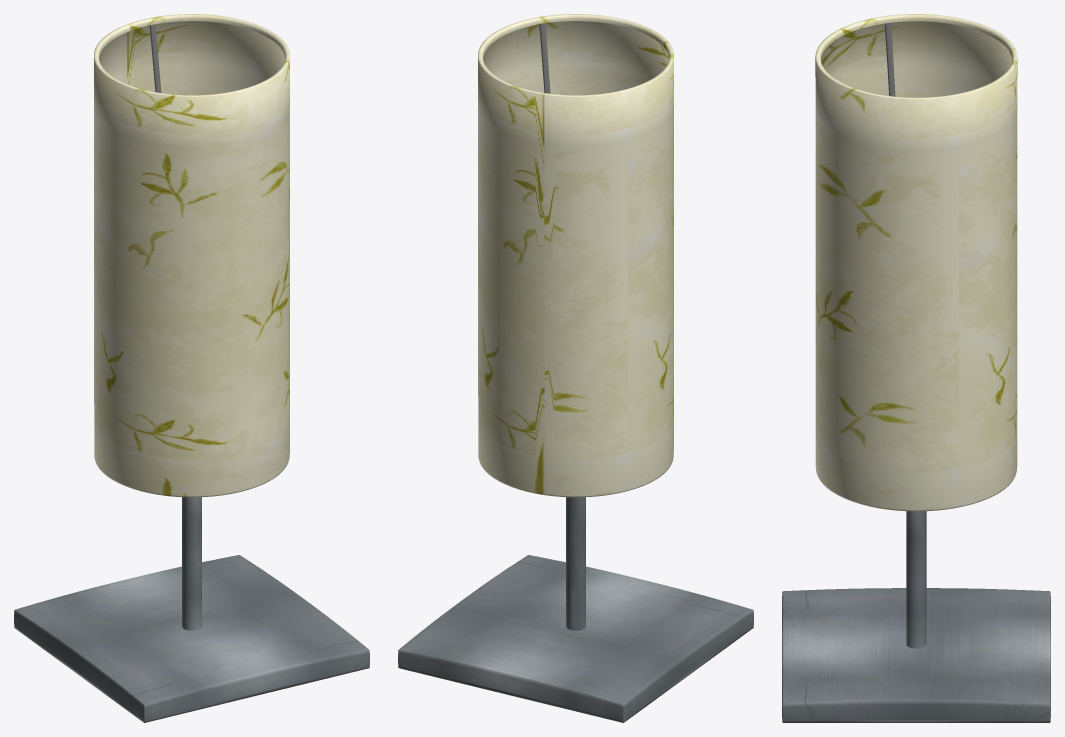
File: table_lamp.obj
3 renders of one model, left to right at view 1: azimuth 30°, elevation 25°; view 2: azimuth 150°, elevation 25°; view 3: azimuth 270°, elevation 25°, orthographic. The views are drawn at different scales.
Visible parts, largest first — view 1: Mesh_lampshade_off_pan_lampshade_off_pan_lampshade_off_pantall_p; view 2: Mesh_lampshade_off_pan_lampshade_off_pan_lampshade_off_pantall_p; view 3: Mesh_lampshade_off_pan_lampshade_off_pan_lampshade_off_pantall_p.
Part boxes in pixels (box(x1,y1,x2,y2)): Mesh_lampshade_off_pan_lampshade_off_pan_lampshade_off_pantall_p: box(14, 14, 369, 722); Mesh_lampshade_off_pan_lampshade_off_pan_lampshade_off_pantall_p: box(398, 14, 753, 722); Mesh_lampshade_off_pan_lampshade_off_pan_lampshade_off_pantall_p: box(782, 14, 1050, 722).
Bounding box in the file's own units: 6 × 15.03 × 6.
5 materials, 2 textured.
